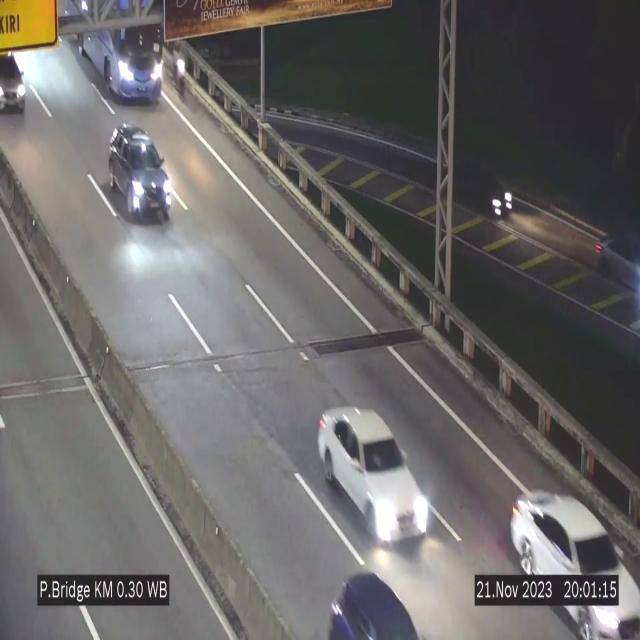Bus: (65, 0, 167, 113)
Car: (506, 474, 640, 640), (318, 407, 430, 541), (325, 559, 427, 640), (107, 123, 171, 220), (446, 158, 524, 223), (584, 220, 640, 286), (0, 50, 34, 127)
Motorcycle: (171, 41, 189, 108)
